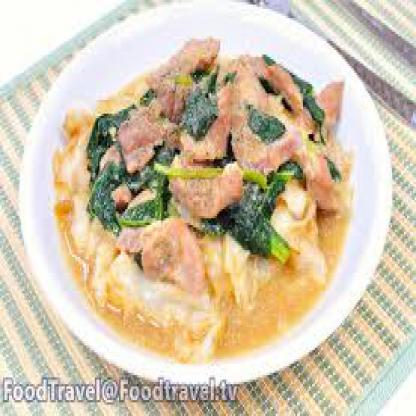Laadna: (48, 41, 365, 375)
